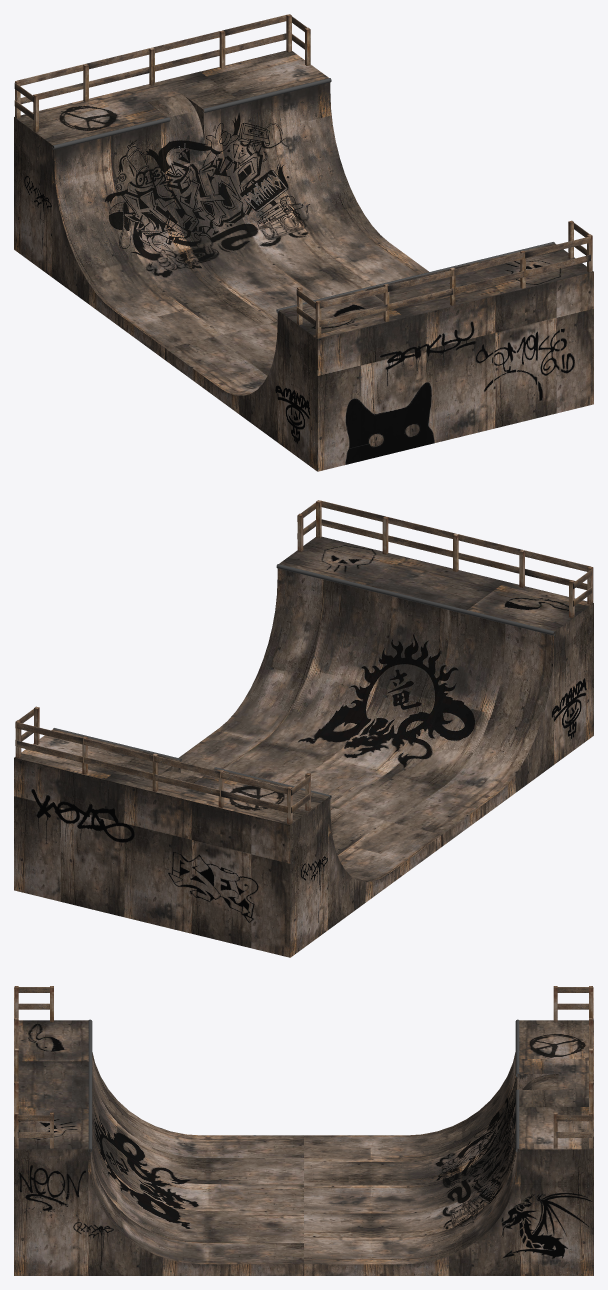
The model's file is ramp.glb.
The picture shows the model from 3 angles, top to bottom: view 1: azimuth 30°, elevation 25°; view 2: azimuth 150°, elevation 25°; view 3: azimuth 270°, elevation 25°; orthographic projection. The views are drawn at different scales.
Visible parts, largest first — view 1: polySurface1, pCylinder8, pCylinder10, pCylinder9; view 2: polySurface1, pCylinder10; view 3: polySurface1, pCylinder10.
Boxes of the visible parts, box(x1,y1,x2,y2) form: polySurface1: box(14, 50, 593, 471); pCylinder8: box(202, 78, 331, 112); pCylinder10: box(276, 242, 554, 313); pCylinder9: box(52, 117, 170, 149); polySurface1: box(14, 536, 593, 957); pCylinder10: box(276, 564, 555, 635); polySurface1: box(14, 1020, 593, 1275); pCylinder10: box(88, 1019, 92, 1152).
Size of the model in its own units: 24.04 by 13.99 by 45.66.
Materials: 9 (7 with a texture image).
